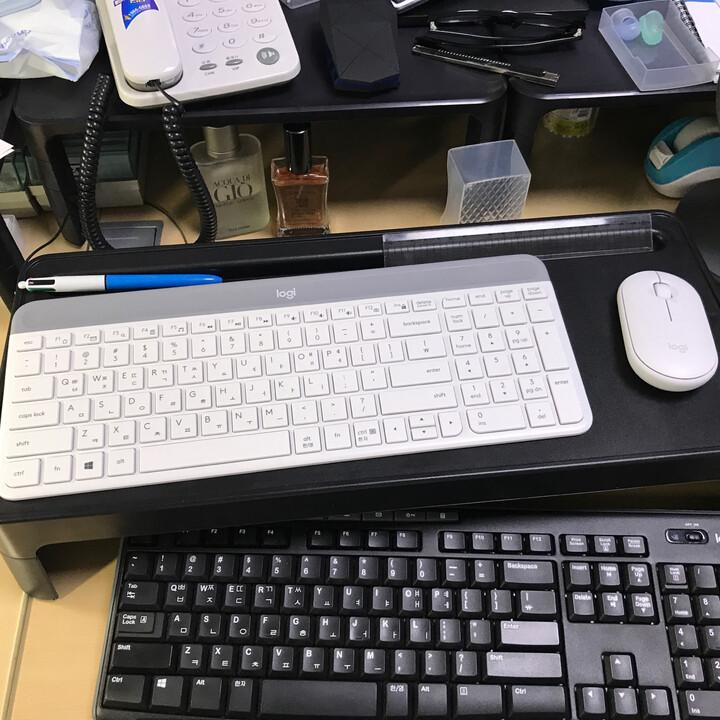keyboard: (0, 256, 593, 501), (92, 508, 719, 719)
mouse: (615, 268, 718, 393)
